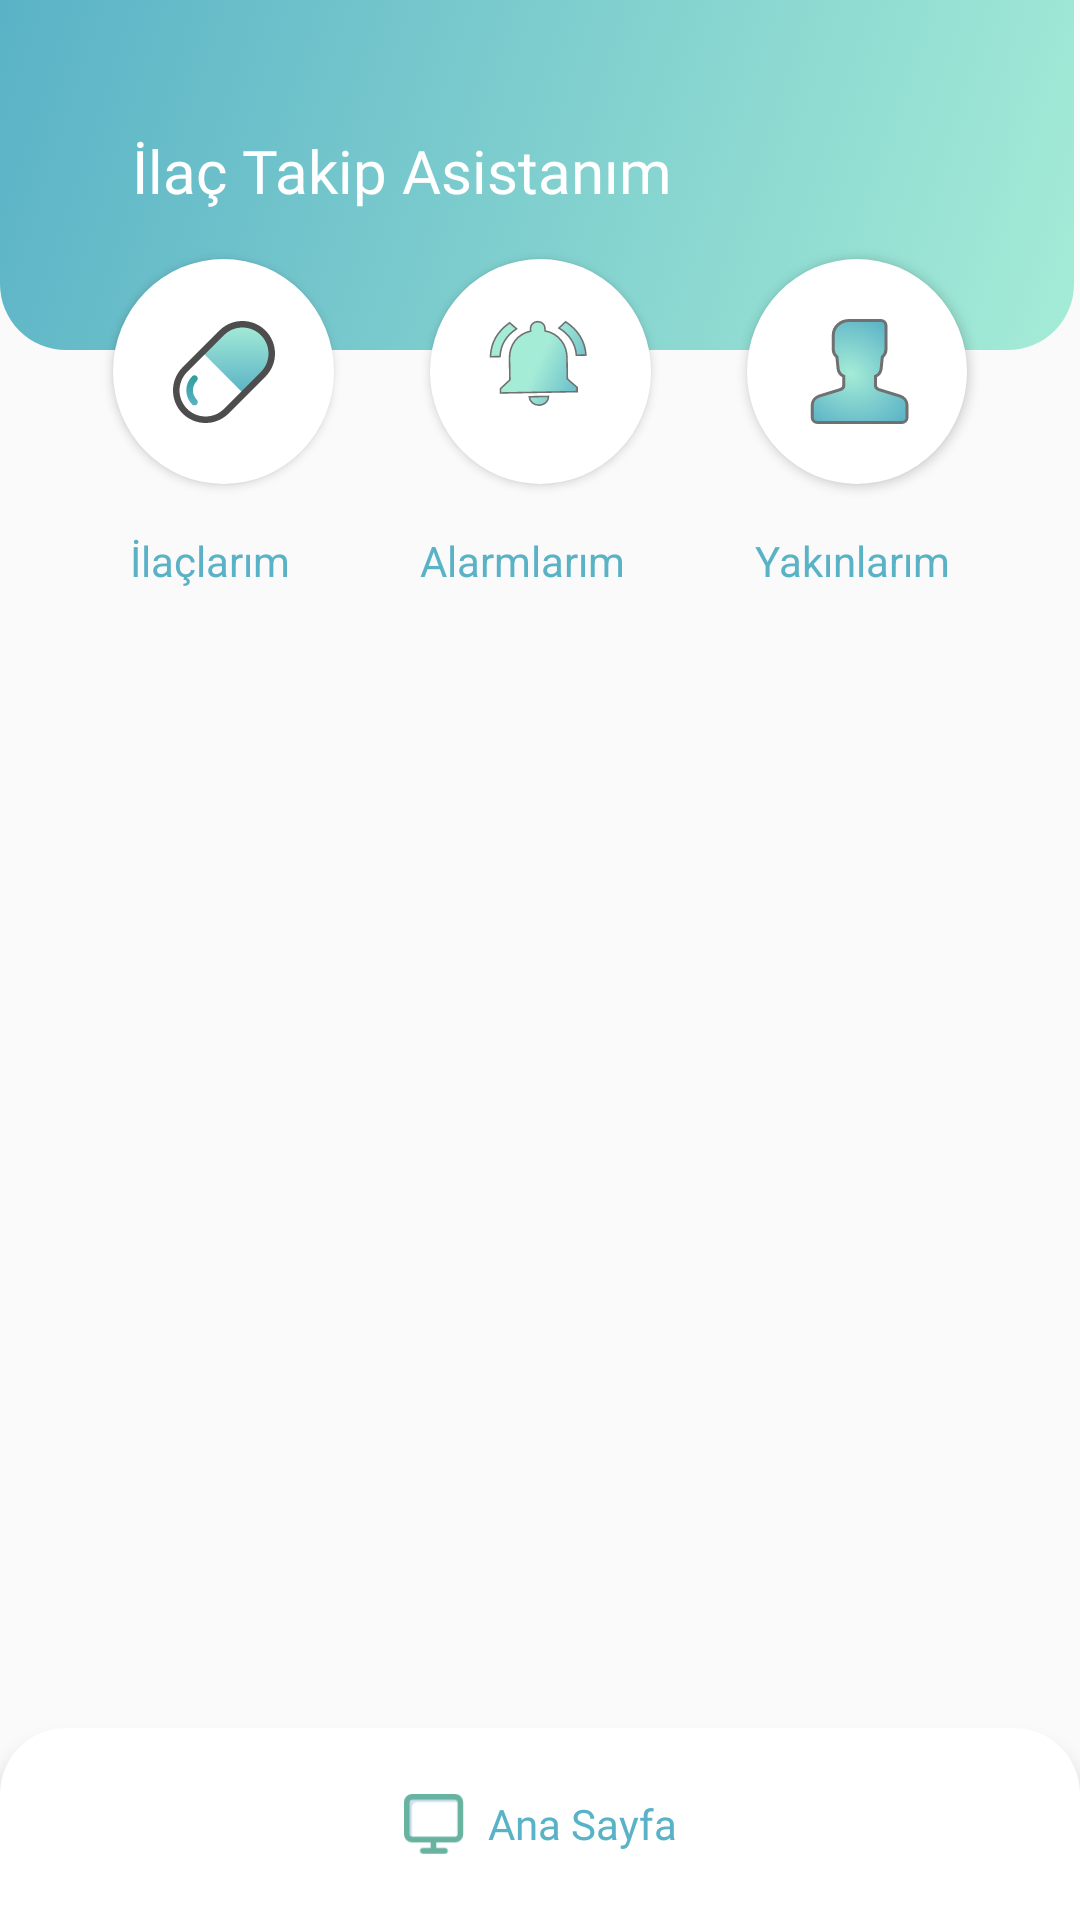

Point at icon controls on the screen. Image size 1080 x 1920, points as point (x, y).
people: point (857, 371)
